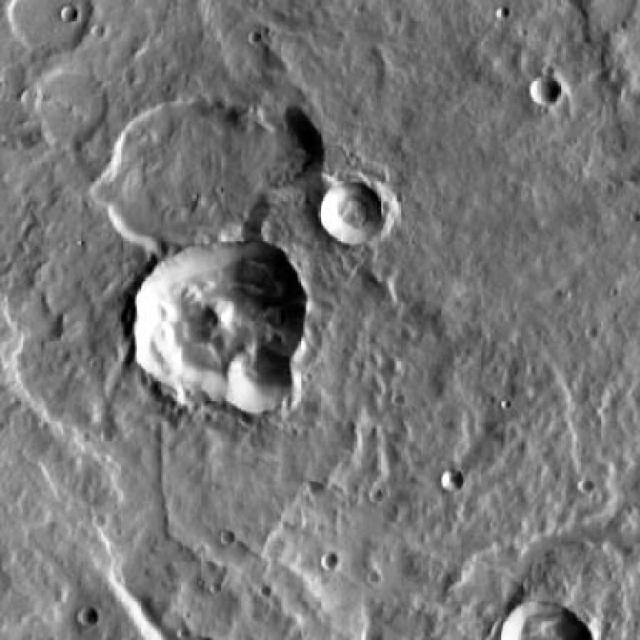crater: (131, 226, 306, 402), (104, 87, 278, 261), (229, 102, 317, 189), (29, 62, 106, 138), (11, 0, 94, 54), (319, 179, 384, 243), (211, 344, 275, 408), (499, 598, 593, 639), (530, 78, 558, 105), (441, 468, 462, 490), (78, 607, 98, 627), (89, 22, 106, 40), (322, 552, 338, 570), (220, 530, 235, 545)
